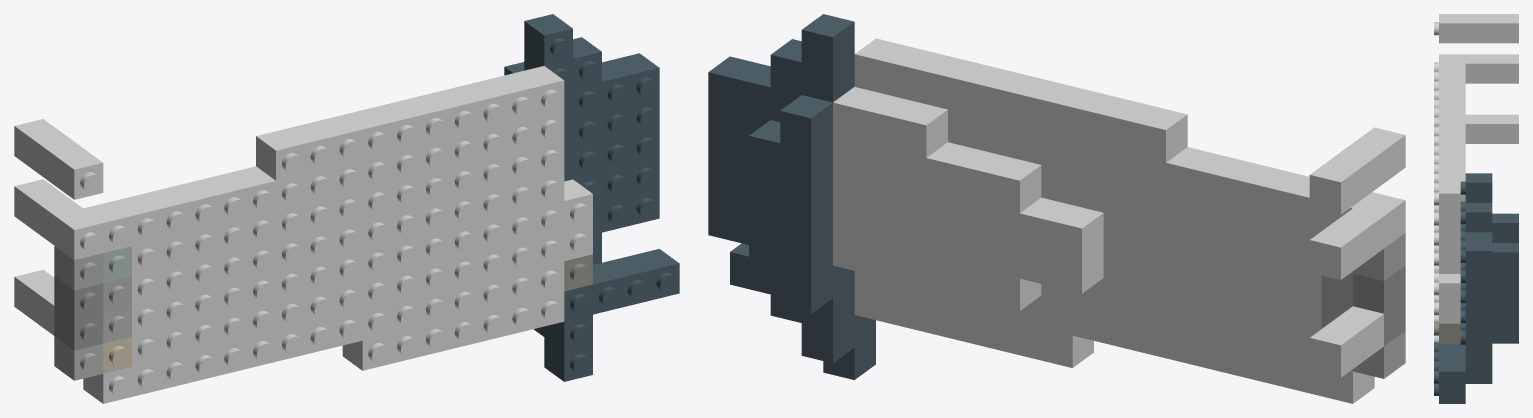
The model's file is full.glb.
The picture shows the model from 3 angles, left to right: view 1: azimuth 30°, elevation 25°; view 2: azimuth 150°, elevation 25°; view 3: azimuth 270°, elevation 25°; orthographic projection. The views are drawn at different scales.
Visible parts, largest first — view 1: world; view 2: world; view 3: world.
Part boxes in pixels (<box>): world: <box>14,14,679,403</box>; world: <box>708,14,1405,403</box>; world: <box>1434,14,1518,403</box>.
Bounding box in the file's own units: 168 × 88 × 30.6.
